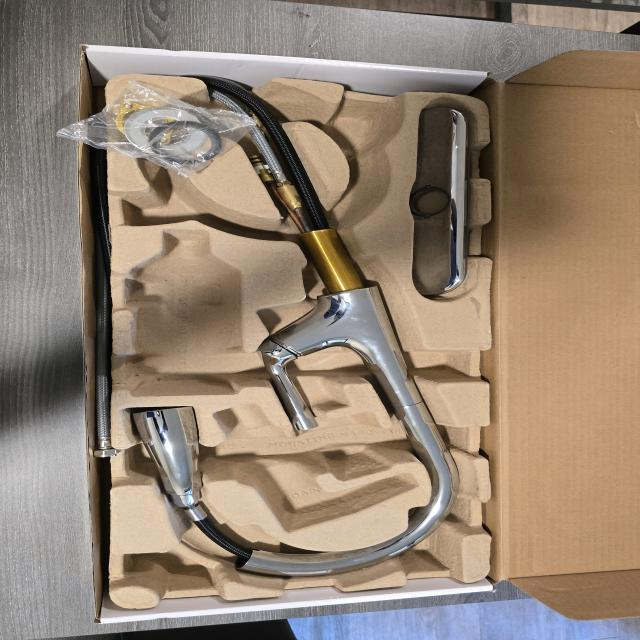1: (126, 76, 461, 574)
2m: (212, 405, 415, 529)
3m: (129, 232, 241, 394)
4: (410, 108, 469, 297)
5m: (331, 99, 403, 154)
6: (56, 78, 264, 174)
7m: (123, 169, 242, 229)
